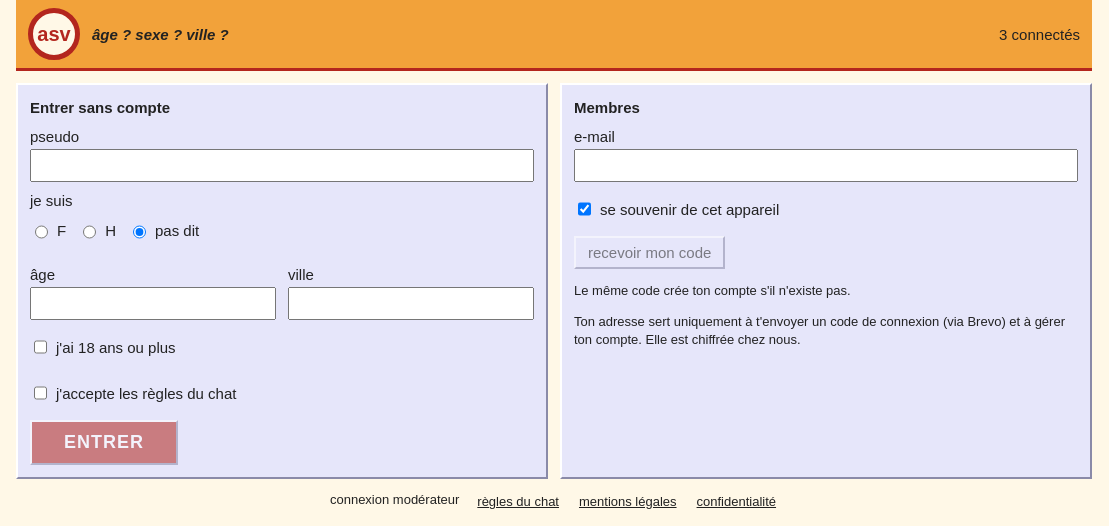
Scenario: entry screen › keeps ENTRER disabled when only the terms box is missing
Type "  ana  " into the field labelled "pseudo" at (282, 166), box [30,149,534,182]
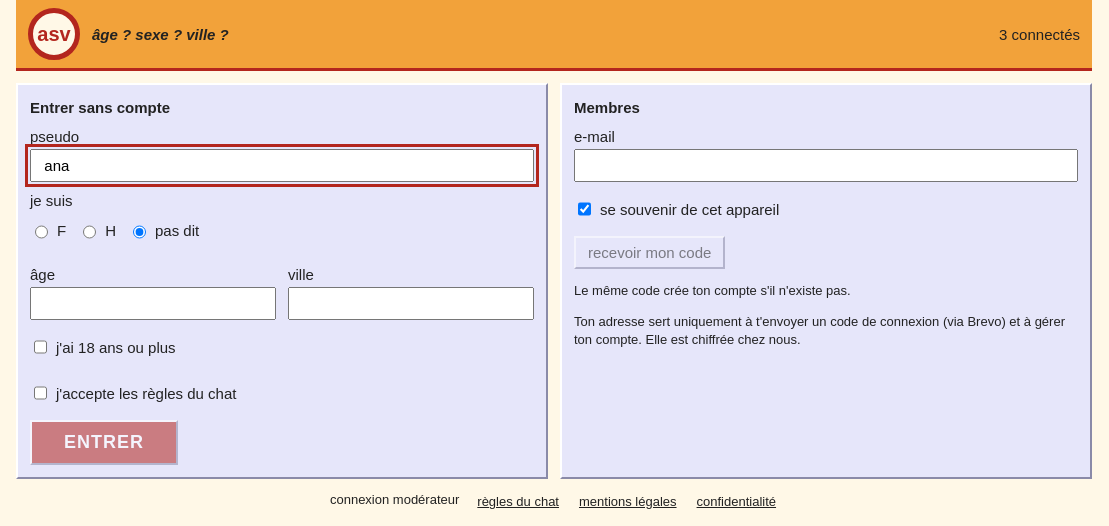
Type "30" into the number field labelled "âge" at (153, 304), box [30,287,276,320]
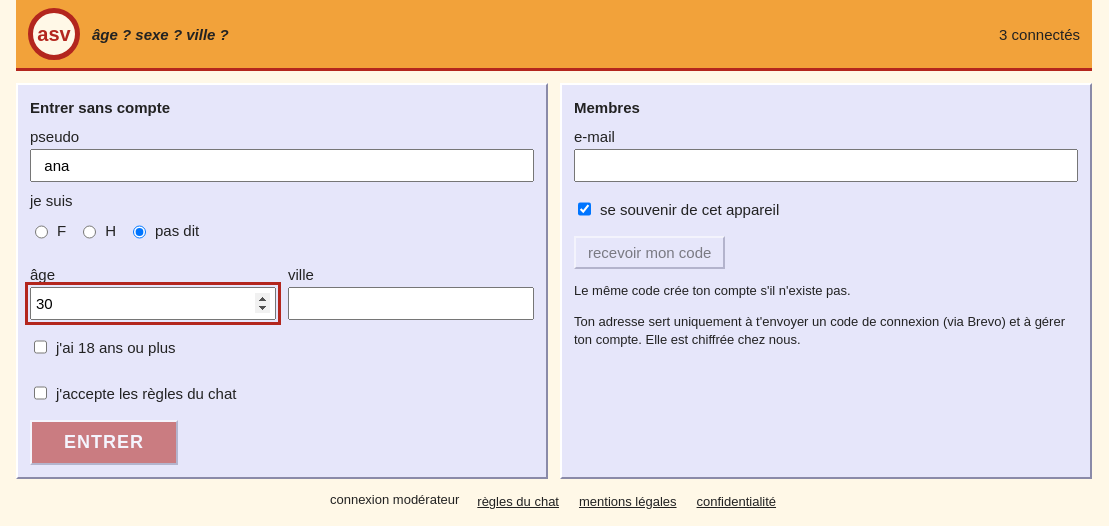
Click the checkbox labelled "j'ai 18 ans ou plus" at (40, 347), box [34,331,47,363]
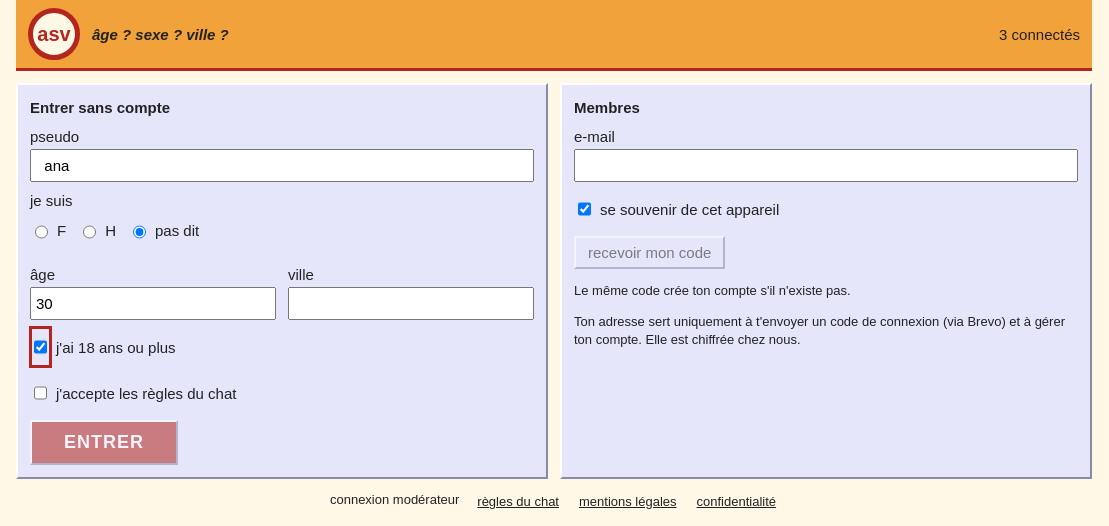
Click the checkbox labelled "j'accepte les règles du chat" at (40, 393), box [34,377,47,409]
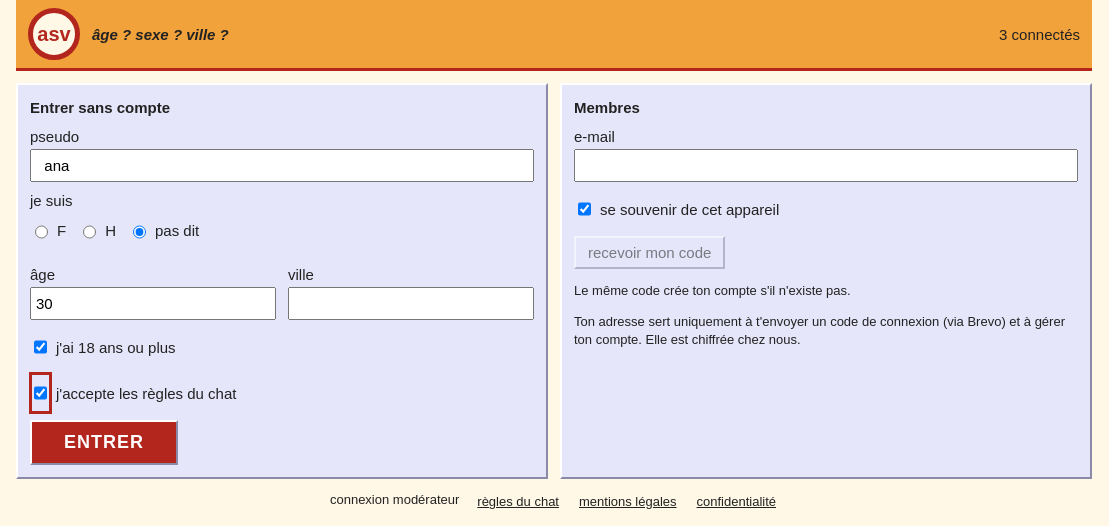
Click the checkbox labelled "j'accepte les règles du chat" at (40, 393), box [34,377,47,409]
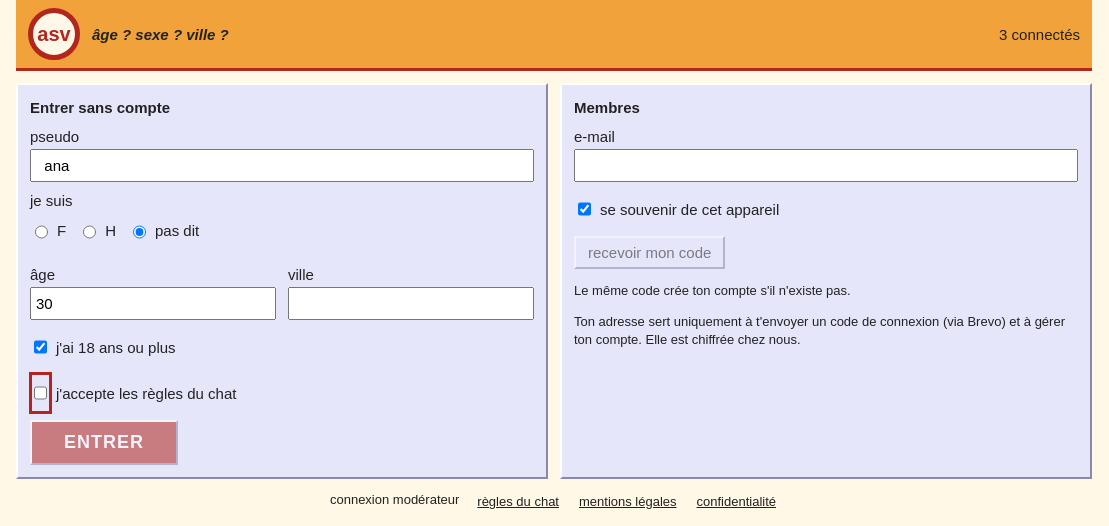
Expected: the button "ENTRER" is disabled, [30,420,178,465]
